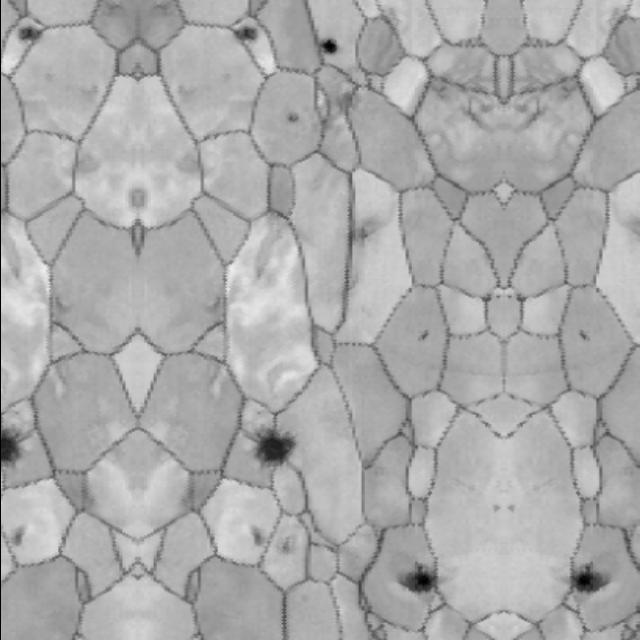good_void: (253, 427, 298, 466), (464, 91, 497, 131), (511, 91, 544, 131), (404, 566, 441, 597), (567, 566, 604, 597), (421, 73, 458, 103), (550, 73, 587, 103), (334, 88, 365, 118), (0, 427, 22, 466), (353, 215, 378, 247), (237, 19, 262, 45), (14, 19, 39, 45), (274, 531, 297, 558), (242, 526, 269, 547), (7, 526, 33, 547), (315, 41, 339, 63), (53, 293, 71, 319), (205, 293, 222, 319), (413, 325, 432, 346), (576, 325, 595, 346), (151, 0, 174, 17), (282, 107, 301, 127), (102, 0, 124, 17), (480, 292, 498, 309), (510, 292, 528, 309), (630, 215, 640, 243), (489, 499, 503, 518), (505, 499, 519, 518)
